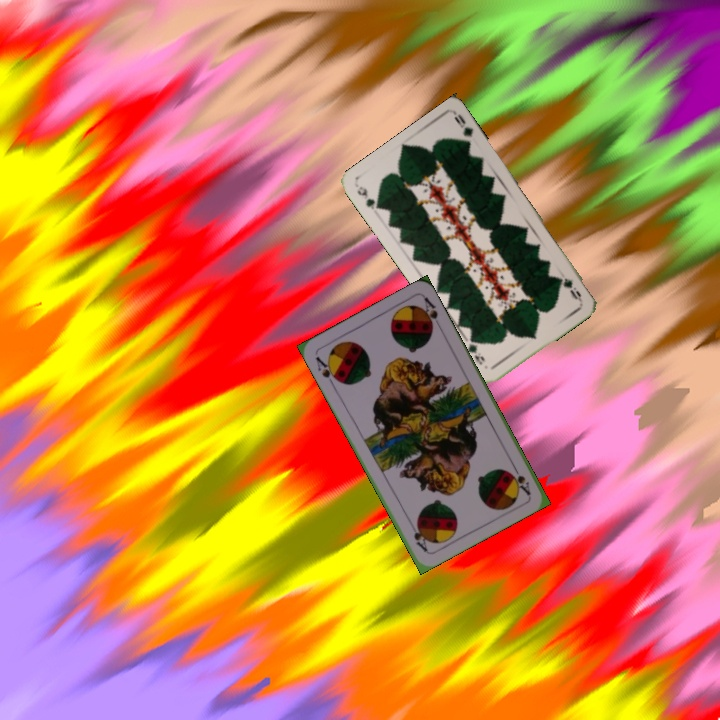G9: (353, 182, 385, 213), (560, 274, 584, 304)
SA: (311, 353, 342, 389), (507, 460, 533, 498)
